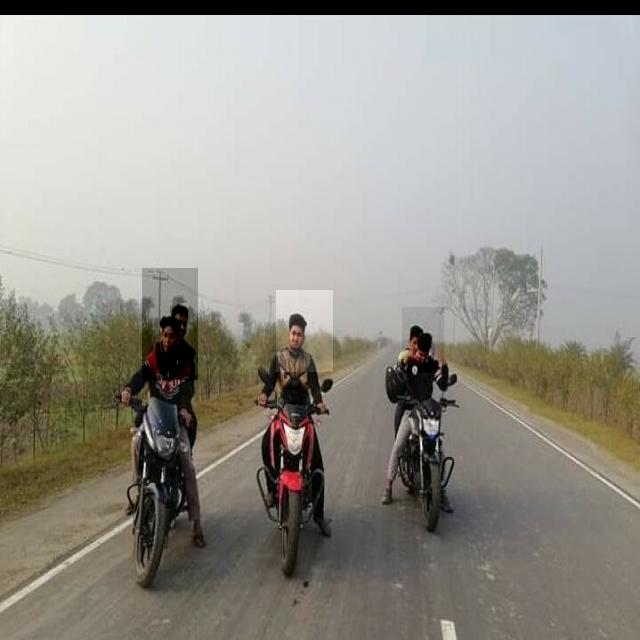No_Helmet: (142, 268, 198, 380), (276, 290, 333, 372), (402, 307, 444, 373)
